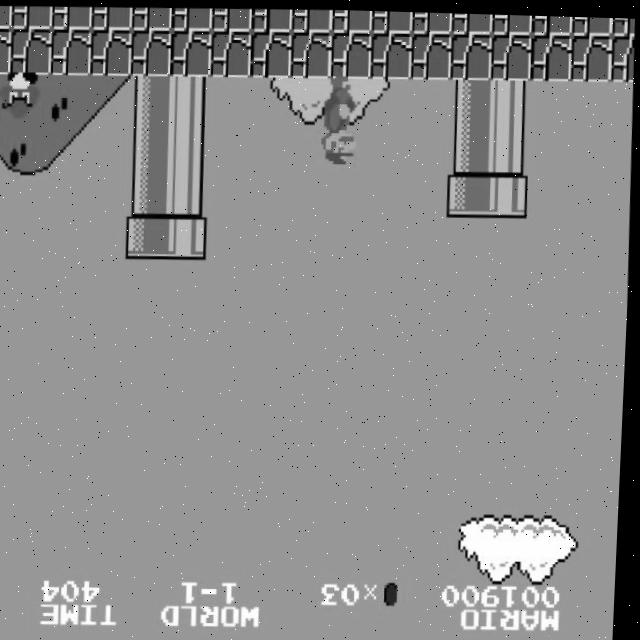0- big_mario: (317, 72, 366, 168)
14- pipe: (488, 121, 532, 169), (448, 122, 492, 170), (168, 74, 212, 122), (128, 74, 172, 122), (489, 76, 532, 124), (449, 76, 492, 124), (168, 120, 211, 168), (128, 120, 171, 168), (167, 166, 210, 213), (127, 166, 170, 213)
15- pipe_head: (166, 211, 210, 259), (126, 211, 170, 259), (487, 168, 531, 215), (447, 168, 490, 215)
17- undestructible_block: (569, 30, 613, 78), (529, 30, 573, 78), (489, 30, 533, 78), (449, 30, 493, 78), (409, 30, 453, 78), (369, 29, 413, 77), (329, 29, 373, 77), (289, 29, 333, 77), (249, 29, 293, 77), (209, 28, 253, 76), (169, 28, 213, 76), (129, 28, 173, 76), (89, 28, 133, 76), (49, 28, 93, 76), (9, 27, 53, 75), (610, 31, 635, 78), (251, 6, 292, 31), (211, 6, 252, 31), (171, 5, 212, 30), (131, 6, 172, 31), (91, 5, 132, 30), (51, 5, 92, 30), (11, 5, 52, 30), (330, 8, 372, 32), (290, 7, 332, 31), (370, 9, 412, 32), (450, 10, 492, 32), (410, 10, 452, 32), (490, 11, 532, 32), (530, 12, 572, 32), (570, 13, 612, 32), (0, 28, 13, 74), (611, 14, 634, 32), (0, 6, 12, 28)
8- goomba: (0, 70, 45, 121)
